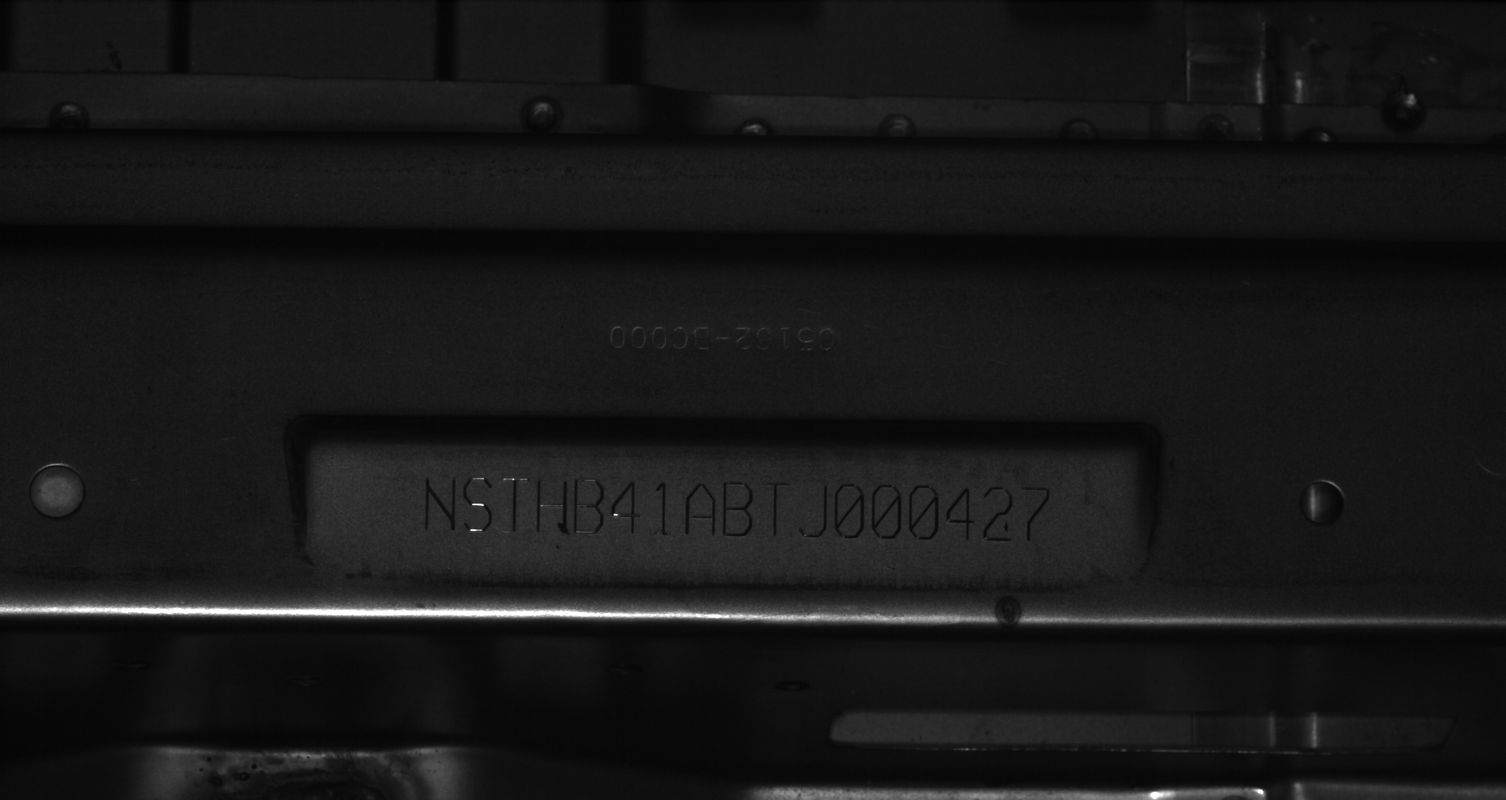bl7m_vin_plate: (305, 446, 1139, 577)
